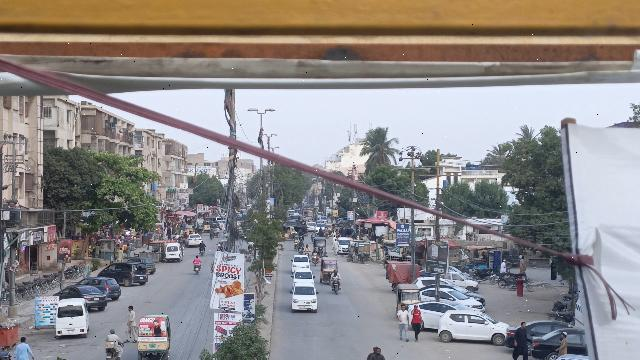Bike: (331, 279, 342, 297), (103, 349, 119, 360), (192, 264, 201, 277), (200, 247, 204, 256)
Car: (436, 309, 507, 345), (418, 287, 485, 311), (53, 284, 107, 310), (98, 261, 149, 287), (76, 275, 122, 302), (289, 283, 320, 314), (290, 268, 317, 287), (290, 253, 311, 273)
Person: (512, 320, 531, 360), (124, 303, 139, 345), (409, 303, 424, 343), (396, 303, 411, 341), (15, 335, 35, 360), (105, 327, 124, 349), (555, 331, 570, 357), (368, 345, 386, 360), (330, 269, 341, 280), (192, 254, 201, 266), (199, 240, 206, 249)
Rickshaw: (136, 314, 171, 359), (394, 283, 420, 317), (319, 255, 339, 284)
Van: (55, 298, 90, 338), (164, 243, 183, 263)
